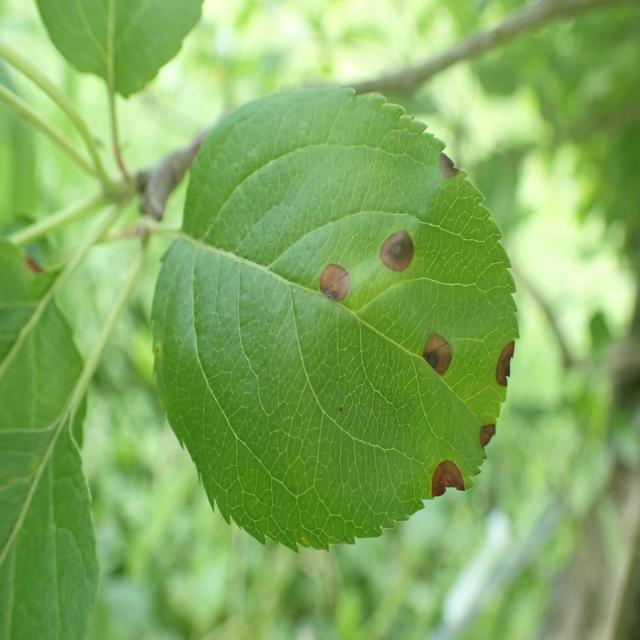Black Rot: (484, 330, 542, 419), (312, 223, 354, 331), (367, 208, 428, 282), (420, 138, 473, 204), (425, 449, 472, 522), (409, 333, 460, 392), (468, 412, 498, 472)
